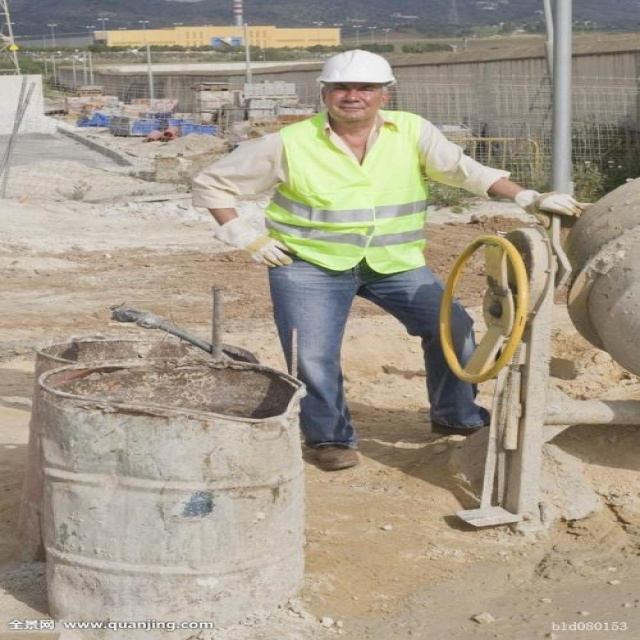Helmet: (303, 32, 405, 142)
Reflective vest: (268, 102, 440, 284)
